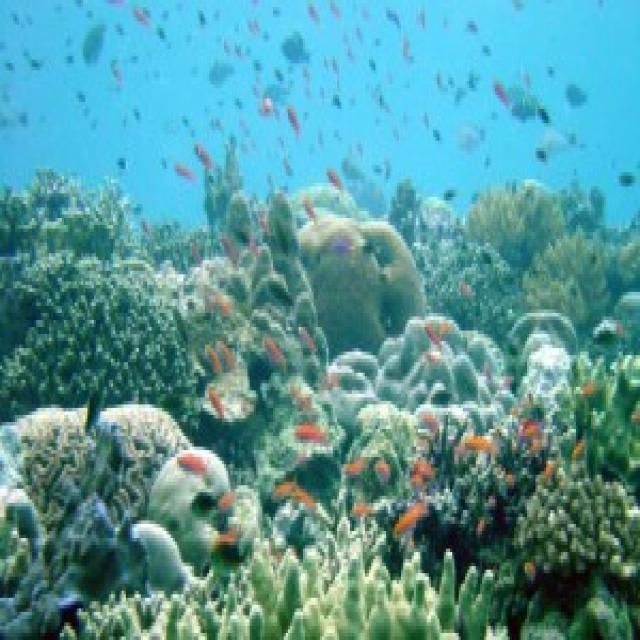Healthy: (82, 521, 504, 637), (1, 434, 189, 637), (1, 258, 195, 416), (191, 194, 325, 419), (391, 405, 549, 578), (300, 216, 423, 353), (517, 462, 639, 588), (332, 317, 502, 402), (148, 448, 231, 567), (103, 409, 191, 511), (432, 240, 522, 339), (573, 356, 639, 486), (470, 184, 564, 268), (526, 233, 609, 325), (263, 412, 344, 504), (347, 402, 417, 497), (12, 409, 93, 486), (511, 310, 577, 402)
